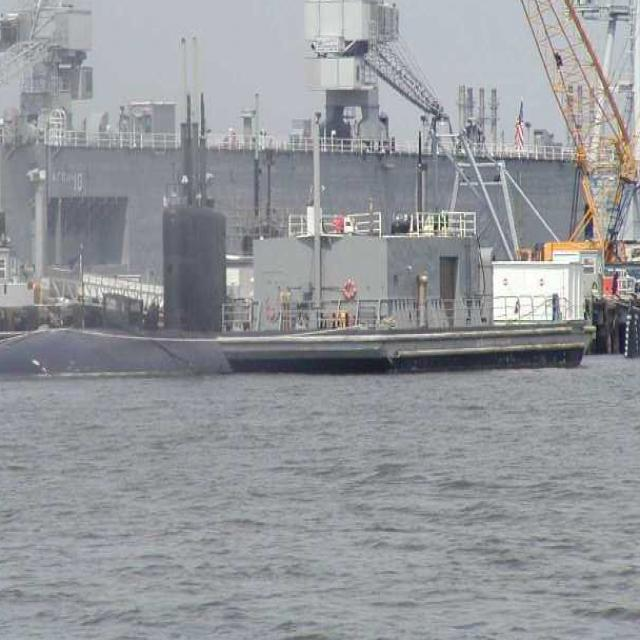submarine: (1, 96, 386, 378)
